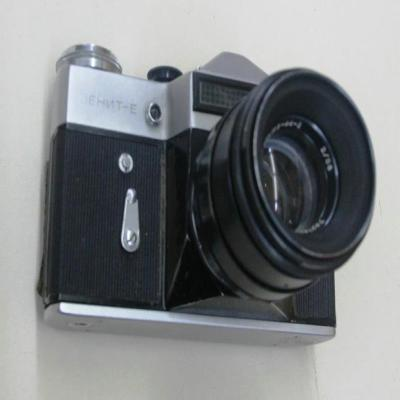technique: (41, 45, 374, 340)
